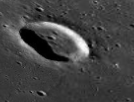crater: (5, 14, 106, 81)
